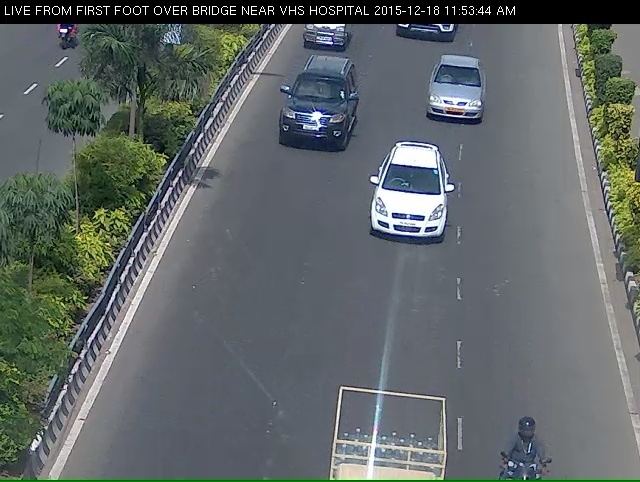Car: (365, 150, 456, 267), (272, 71, 349, 162), (423, 58, 487, 133), (383, 19, 468, 50), (285, 20, 349, 54)
